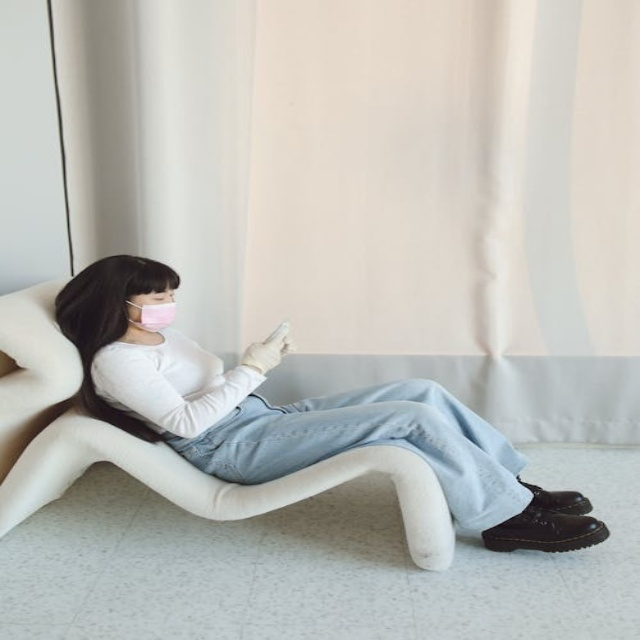Guantes: (240, 321, 296, 374)
Mascara: (125, 299, 178, 331)
Sin_gafas: (133, 288, 178, 304)
